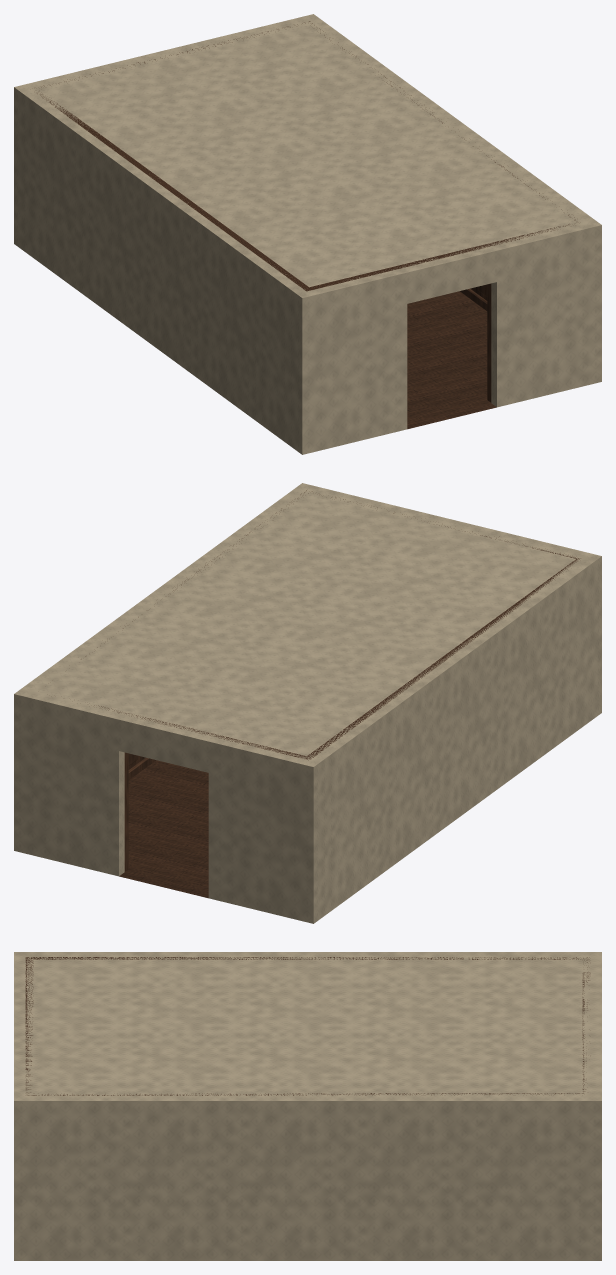
The model's file is StraightHall.fbx.
The picture shows the model from 3 angles, top to bottom: view 1: azimuth 30°, elevation 25°; view 2: azimuth 150°, elevation 25°; view 3: azimuth 270°, elevation 25°; orthographic projection.
Visible parts, largest first — view 1: SM_StraightHall.001; view 2: SM_StraightHall.001; view 3: SM_StraightHall.001.
Part boxes in pixels (x1,y1,x2,y2): SM_StraightHall.001: (14,14,601,454); SM_StraightHall.001: (14,483,601,923); SM_StraightHall.001: (14,952,601,1260).
Size of the model in its own units: 600 by 300 by 1000.
Materials: 3 (3 with a texture image).
